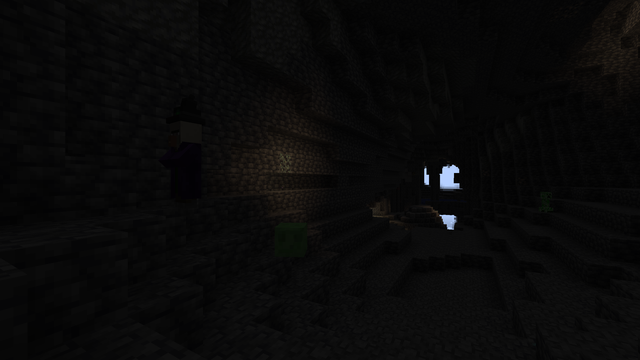creepers: (540, 191, 551, 212)
slimes: (271, 220, 311, 258)
sorcieres: (164, 116, 205, 209)
